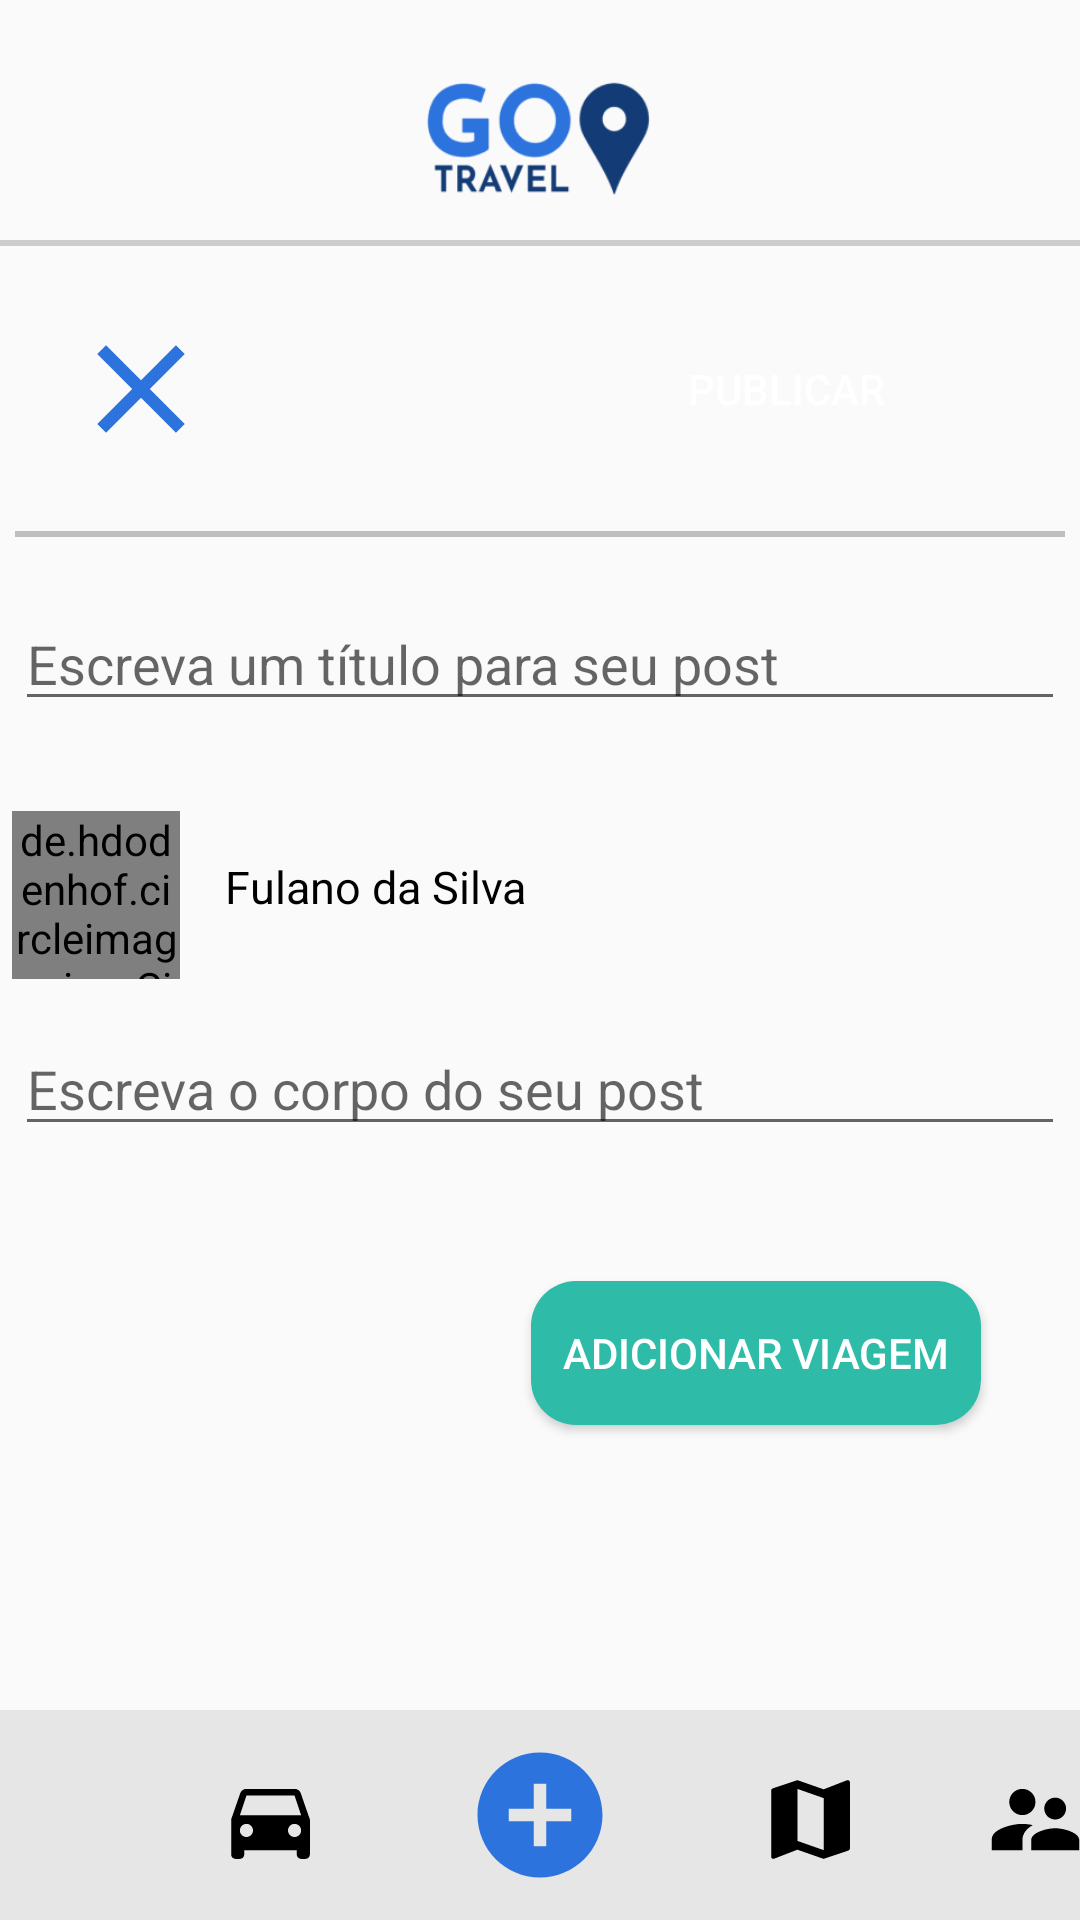

Point at icon controls on the screen. Image size 1080×1920, points as [x,y].
add circle: [540,1815]
clear: [141,389]
directions car: [270,1824]
map: [810,1819]
supervisor account: [1035,1820]
